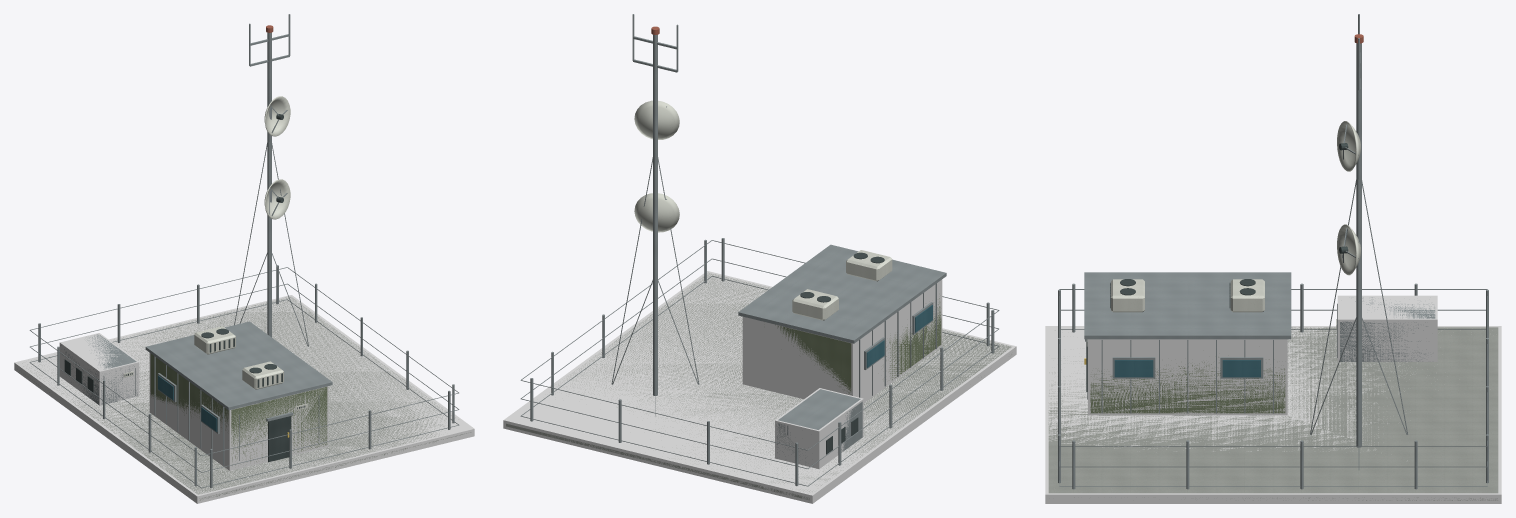
Rendered from RadioRelay.fbx.
The picture shows the model from 3 angles, left to right: view 1: azimuth 30°, elevation 25°; view 2: azimuth 150°, elevation 25°; view 3: azimuth 270°, elevation 25°; orthographic projection. The views are drawn at different scales.
Visible parts, largest first — view 1: LOD0, COL_Static; view 2: COL_Static, LOD0; view 3: LOD0, COL_Static.
Boxes of the visible parts, x1,y1,x2,y2 form: LOD0: (17, 14, 471, 500); COL_Static: (14, 295, 474, 503); COL_Static: (503, 271, 1016, 503); LOD0: (506, 14, 1011, 500); LOD0: (1048, 14, 1498, 500); COL_Static: (1045, 295, 1501, 503).
Size of what is drawn, in the model's own units: 1400 by 1660 by 1600.
